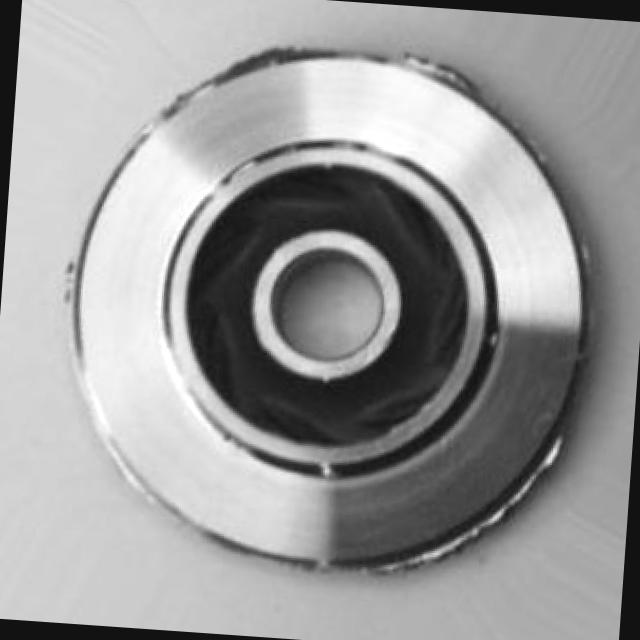Defect: (400, 41, 471, 94)
